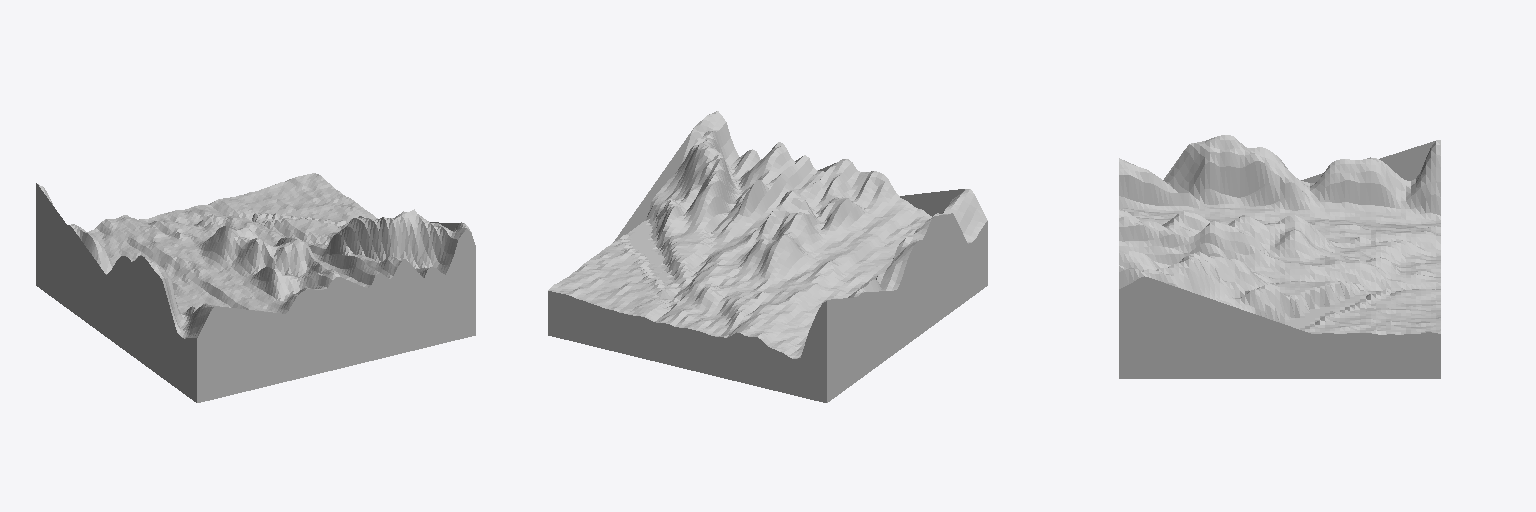
The model's file is testFull.obj.
3 views of the same model, side by side, from view 1: azimuth 30°, elevation 25°; view 2: azimuth 150°, elevation 25°; view 3: azimuth 270°, elevation 25° (orthographic).
Visible parts, largest first — view 1: Cube_Cube.003, Landscape_Plane; view 2: Landscape_Plane, Cube_Cube.003; view 3: Landscape_Plane, Cube_Cube.003.
Part boxes in pixels (x1,y1,x2,y2): Cube_Cube.003: (36,173,475,402); Landscape_Plane: (38,173,471,338); Landscape_Plane: (548,111,987,358); Cube_Cube.003: (548,114,987,402); Landscape_Plane: (1119,135,1440,334); Cube_Cube.003: (1119,135,1440,378).
Size of the model in its own units: 2 by 0.7485 by 2.